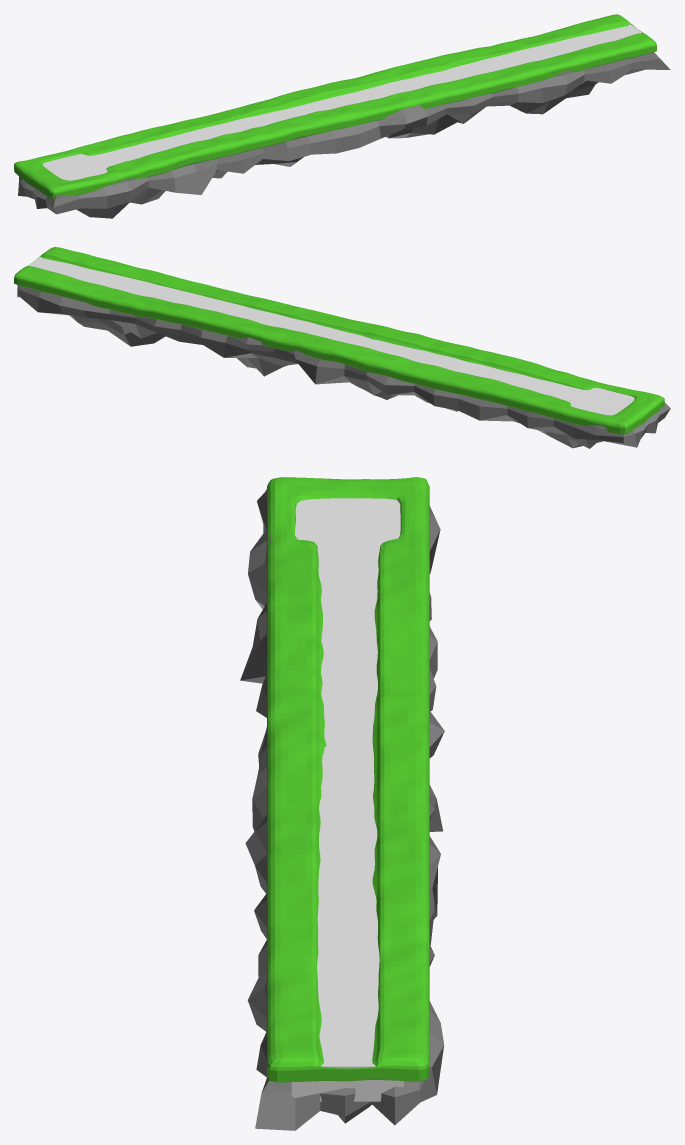
Rendered from snow1_new.fbx.
The picture shows the model from 3 angles, top to bottom: view 1: azimuth 30°, elevation 25°; view 2: azimuth 150°, elevation 25°; view 3: azimuth 270°, elevation 25°; orthographic projection. The views are drawn at different scales.
Visible parts, largest first — view 1: Box030, Box029, Box035; view 2: Box030, Box029, Box035; view 3: Box030, Box035, Box029.
Part boxes in pixels (bbox=[...]): Box030: bbox=[14, 14, 656, 199]; Box029: bbox=[18, 52, 670, 218]; Box035: bbox=[42, 24, 642, 180]; Box030: bbox=[14, 247, 664, 434]; Box029: bbox=[17, 285, 670, 448]; Box035: bbox=[28, 257, 634, 415]; Box030: bbox=[267, 477, 429, 1082]; Box035: bbox=[291, 498, 403, 1101]; Box029: bbox=[240, 489, 444, 1130].
Bounding box in the file's own units: 540 × 54.43 × 77.34.
